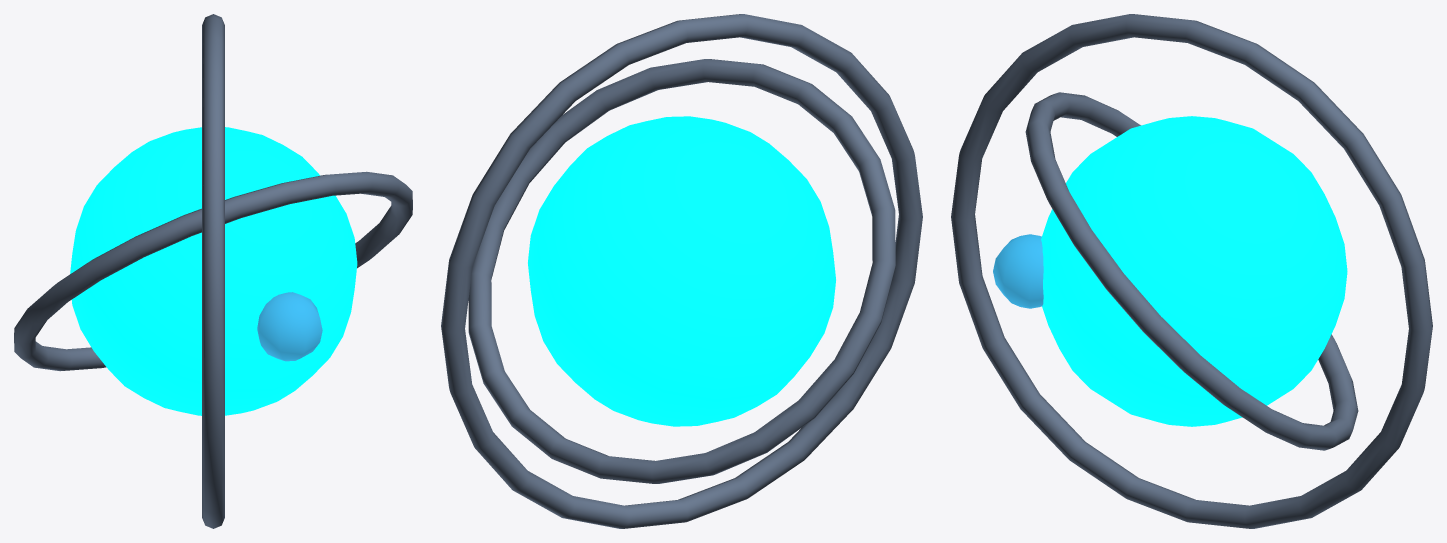
Rendered from skin_orb.glb.
3 views of the same model, side by side, from view 1: azimuth 30°, elevation 25°; view 2: azimuth 150°, elevation 25°; view 3: azimuth 270°, elevation 25° (orthographic). The views are drawn at different scales.
Parts seen in each view (by area): view 1: Skin_Orb; view 2: Skin_Orb; view 3: Skin_Orb.
Boxes of the visible parts, <box> form: Skin_Orb: <box>14,14,412,528</box>; Skin_Orb: <box>441,14,922,528</box>; Skin_Orb: <box>951,14,1432,528</box>.
Bounding box in the file's own units: 1.48 × 1.78 × 1.55.
